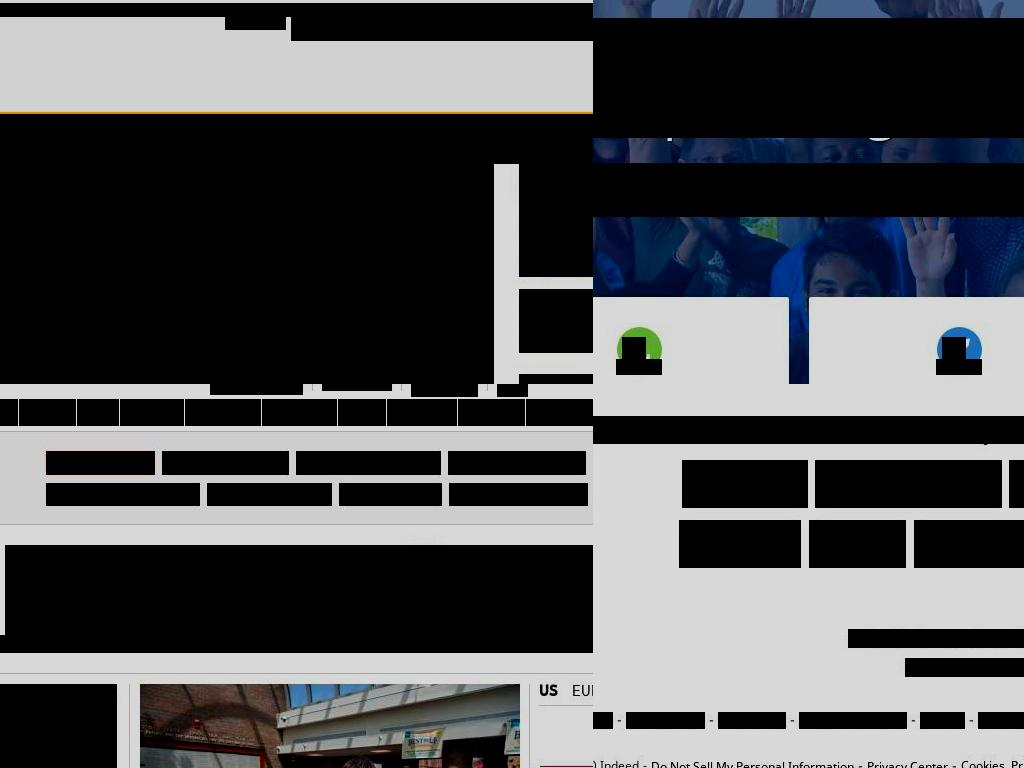button: (0, 164, 494, 384), (140, 684, 520, 768), (815, 460, 1002, 508), (519, 164, 593, 277), (682, 460, 808, 508), (679, 520, 801, 568), (914, 520, 1024, 568), (519, 289, 593, 353), (809, 520, 906, 568), (46, 483, 200, 506), (296, 451, 441, 475), (448, 451, 586, 475), (449, 483, 588, 506), (162, 451, 289, 475), (207, 483, 332, 506), (46, 451, 155, 475), (339, 483, 442, 506), (185, 399, 261, 426), (262, 399, 337, 426), (387, 399, 457, 426), (458, 399, 525, 426), (526, 399, 593, 426), (120, 399, 184, 426), (19, 399, 76, 426), (338, 399, 386, 426), (77, 399, 119, 426), (210, 384, 303, 395), (961, 756, 1024, 768), (616, 359, 662, 375), (936, 359, 982, 375), (0, 399, 18, 426)
field: (291, 3, 593, 41)
heading: (593, 18, 1024, 138), (0, 114, 593, 164), (519, 289, 593, 352)
iframe: (5, 545, 593, 635)
image: (0, 164, 494, 384), (140, 684, 520, 768), (519, 164, 593, 277), (2, 169, 38, 205), (524, 169, 560, 205), (57, 458, 69, 468)
label: (225, 14, 286, 30)
link: (651, 758, 854, 768), (799, 712, 907, 729), (626, 712, 705, 729), (718, 712, 786, 729), (411, 384, 478, 397), (867, 758, 948, 768), (978, 712, 1024, 729), (920, 712, 965, 729), (497, 384, 528, 397), (593, 712, 613, 729)
text: (593, 163, 1024, 217), (593, 416, 1024, 444), (0, 635, 593, 653), (0, 3, 593, 17), (848, 629, 1024, 648), (855, 474, 986, 494), (905, 658, 1024, 677), (722, 474, 792, 494), (954, 534, 1024, 554), (719, 534, 785, 554), (69, 458, 144, 471), (849, 534, 890, 554), (593, 756, 651, 768), (622, 337, 646, 362), (942, 337, 966, 362), (322, 384, 392, 391), (210, 384, 291, 390), (571, 684, 593, 700), (539, 684, 558, 700), (698, 476, 715, 492), (831, 476, 848, 492), (695, 536, 711, 552), (825, 536, 841, 552), (930, 536, 946, 552)
